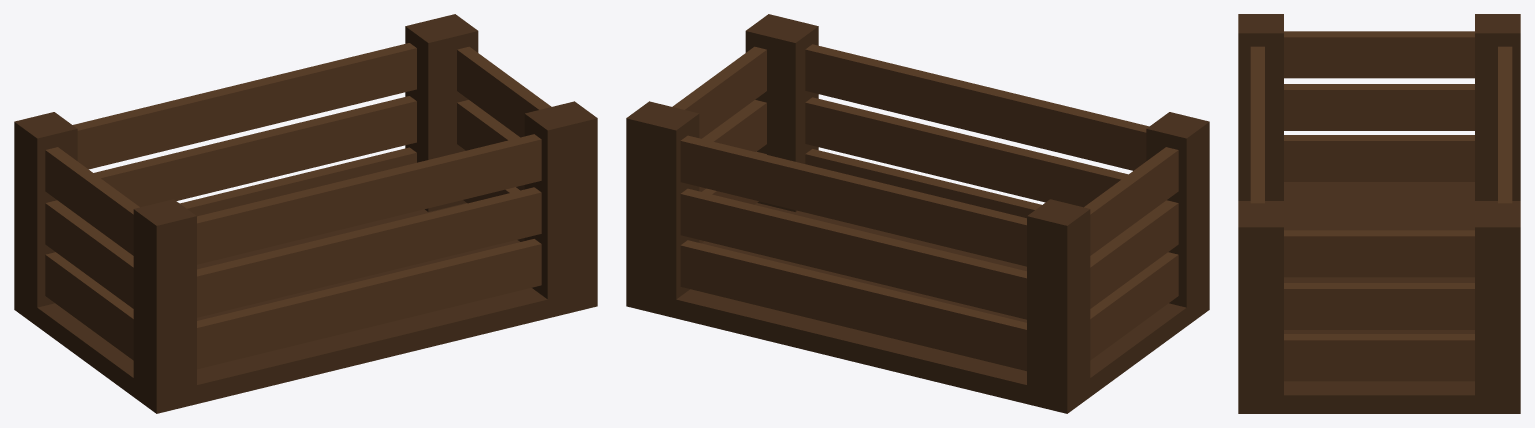
The model's file is open_box_1.fbx.
The picture shows the model from 3 angles, left to right: view 1: azimuth 30°, elevation 25°; view 2: azimuth 150°, elevation 25°; view 3: azimuth 270°, elevation 25°; orthographic projection.
Visible parts, largest first — view 1: open_box_1; view 2: open_box_1; view 3: open_box_1.
Boxes of the visible parts, left/top/right/bottom form: open_box_1: left=14, top=14, right=597, bottom=413; open_box_1: left=626, top=14, right=1209, bottom=413; open_box_1: left=1238, top=14, right=1520, bottom=413.
Bounding box in the file's own units: 203 × 82.8 × 114.
